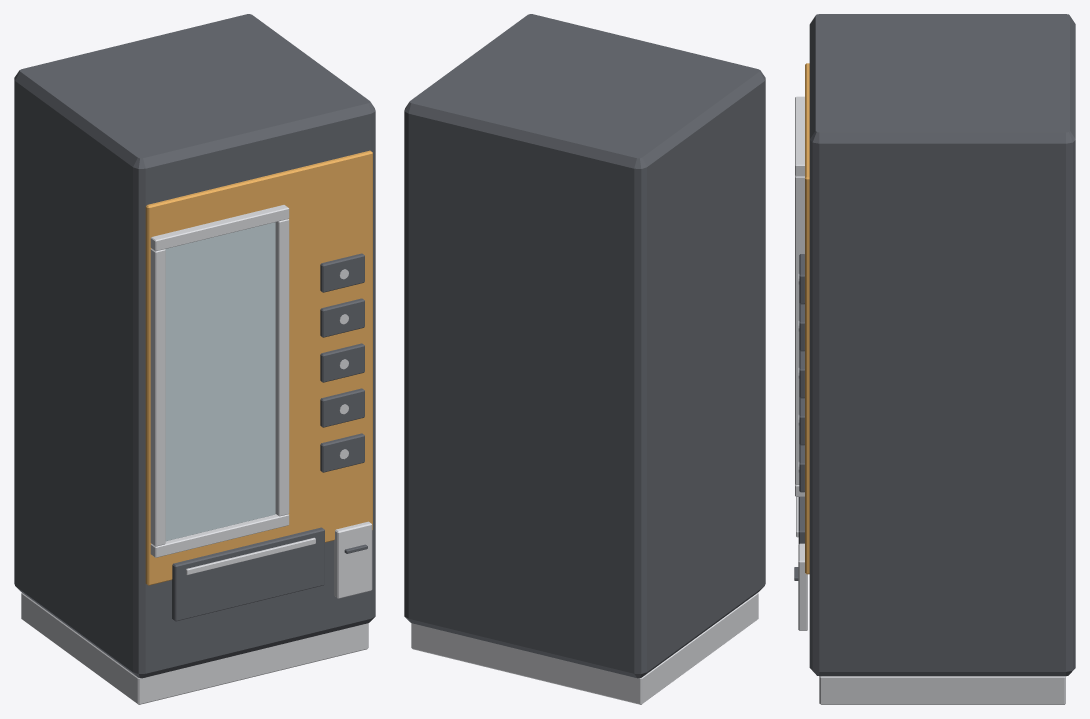
The model's file is office-lobby-and-facilities-vending-machine-drink-a914f649__26220.glb.
3 views of the same model, side by side, from view 1: azimuth 30°, elevation 25°; view 2: azimuth 150°, elevation 25°; view 3: azimuth 270°, elevation 25° (orthographic). The views are drawn at different scales.
Parts seen in each view (by area): view 1: vending-machine-drink, delivery-flap/dark, delivery-flap/metal; view 2: vending-machine-drink; view 3: vending-machine-drink.
Part boxes in pixels (left/top/right/bottom): vending-machine-drink: left=14, top=14, right=375, bottom=704; delivery-flap/dark: left=172, top=527, right=324, bottom=621; delivery-flap/metal: left=186, top=537, right=315, bottom=574; vending-machine-drink: left=404, top=14, right=765, bottom=704; vending-machine-drink: left=794, top=14, right=1075, bottom=704.
Size of the model in its own units: 0.8999 by 1.95 by 0.868.
